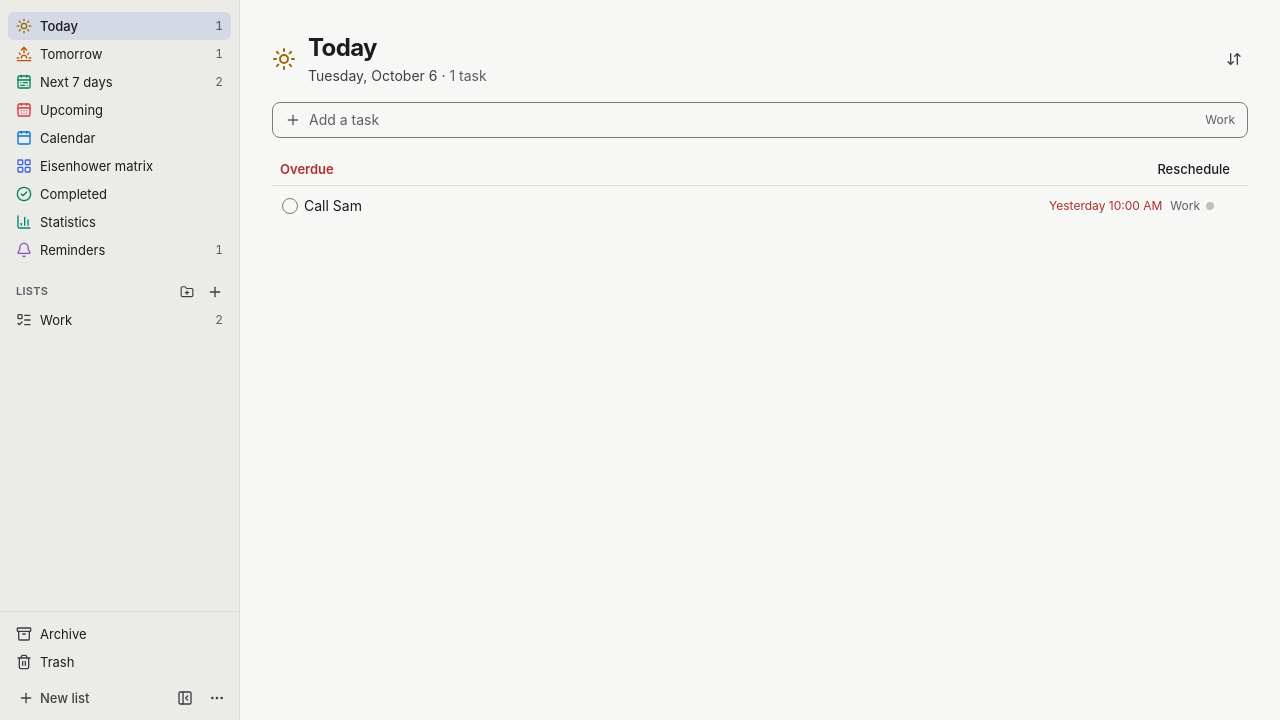
Test case: Reminders view › lists delivered reminders with a count, and dismisses them
Check: the 3rd text "1" is shown, box [215,242,223,258]
Step 1. Click the button "Reminders 1" → (73, 250), box [16,242,223,258]
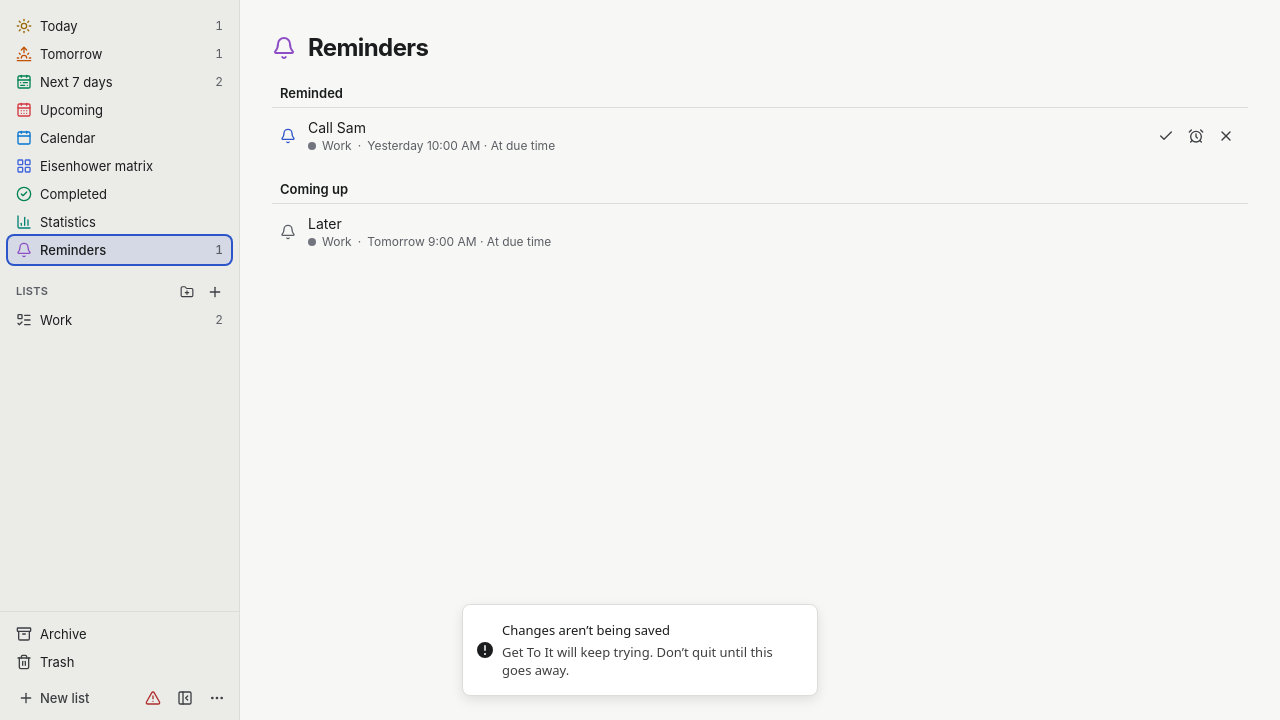
Check: the list item "Call Sam" is shown, box [272,112,1248,160]
Check: the list item "Later" is shown, box [272,208,1248,256]
Step 2. Click the button named "Dismiss" → (1226, 136), box [1212,122,1240,150]
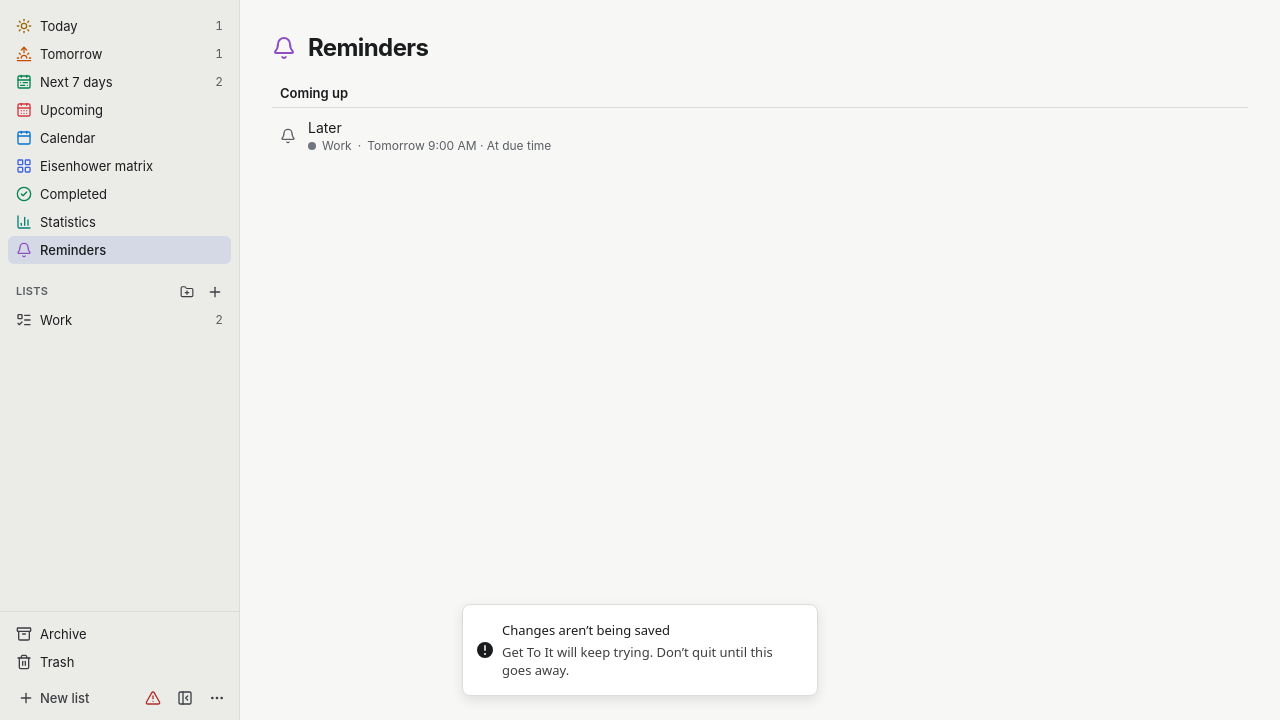
Check: the text "Reminded" is gone
